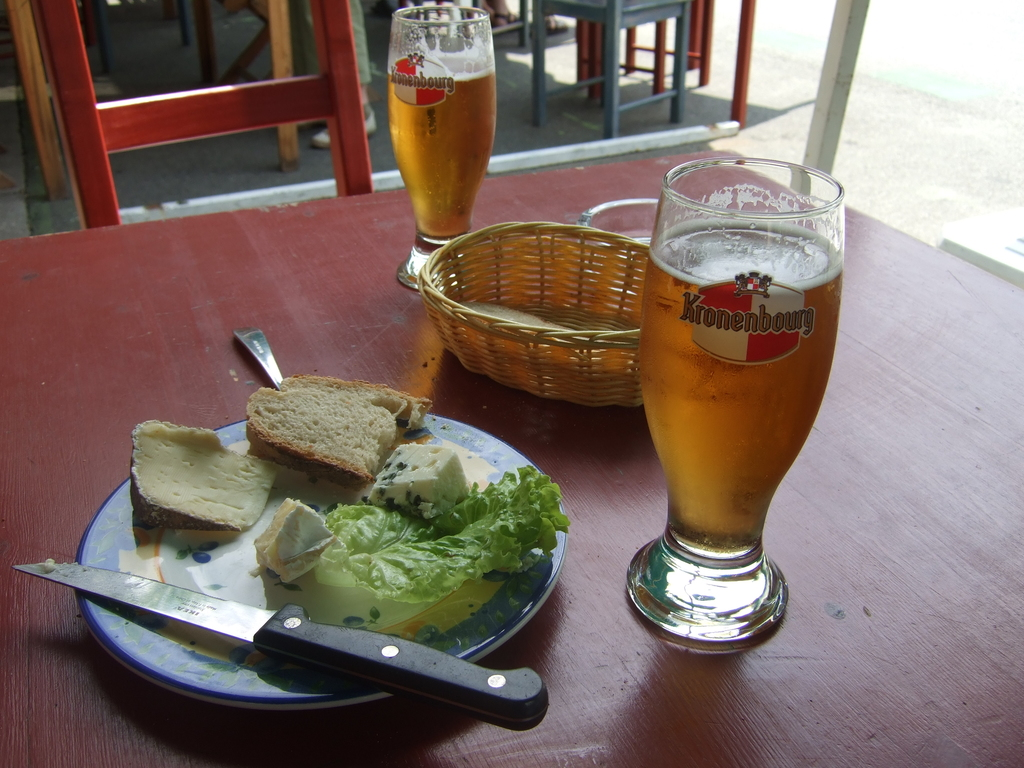Beer: (636, 214, 837, 556), (385, 56, 491, 242)
